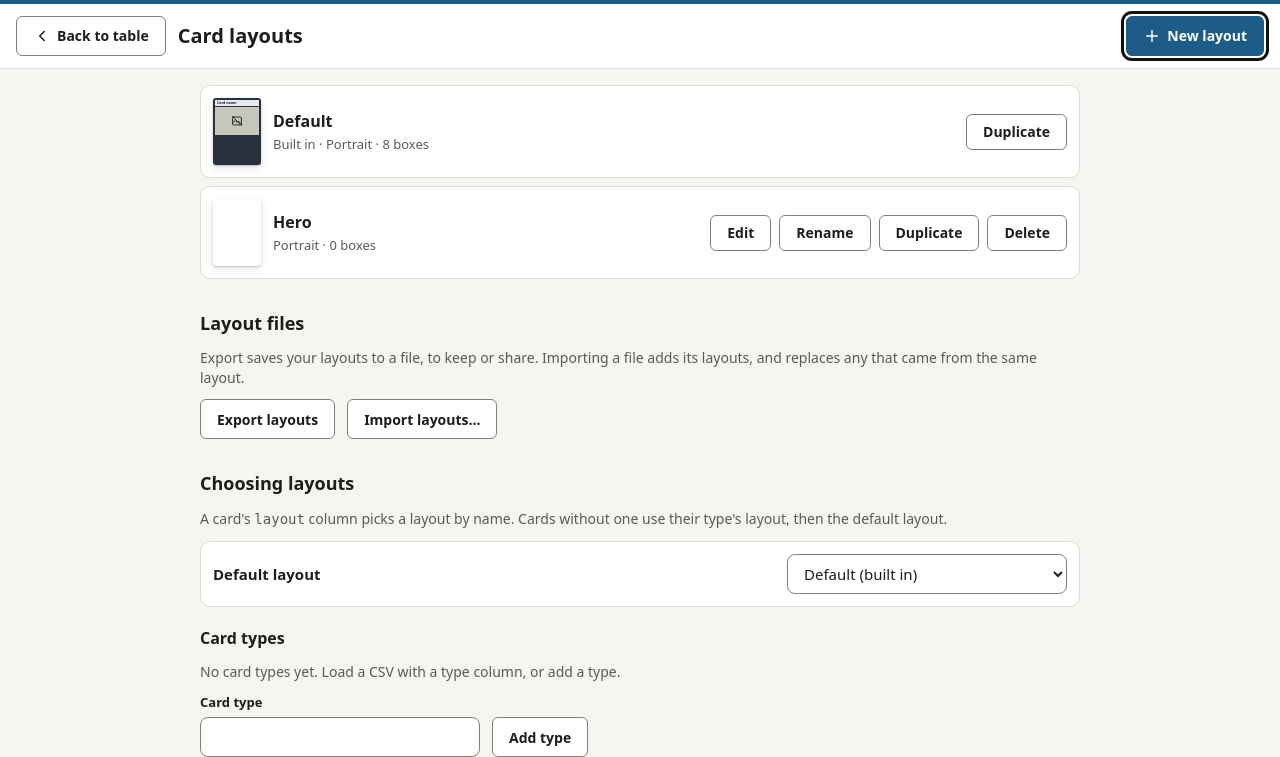
Test case: LY-3 box properties › takes alternative columns, keeps them as an image, and suggests loaded columns
Click the button with aria-label "Edit Hero". click: x=741, y=232
box: [710,214,771,250]
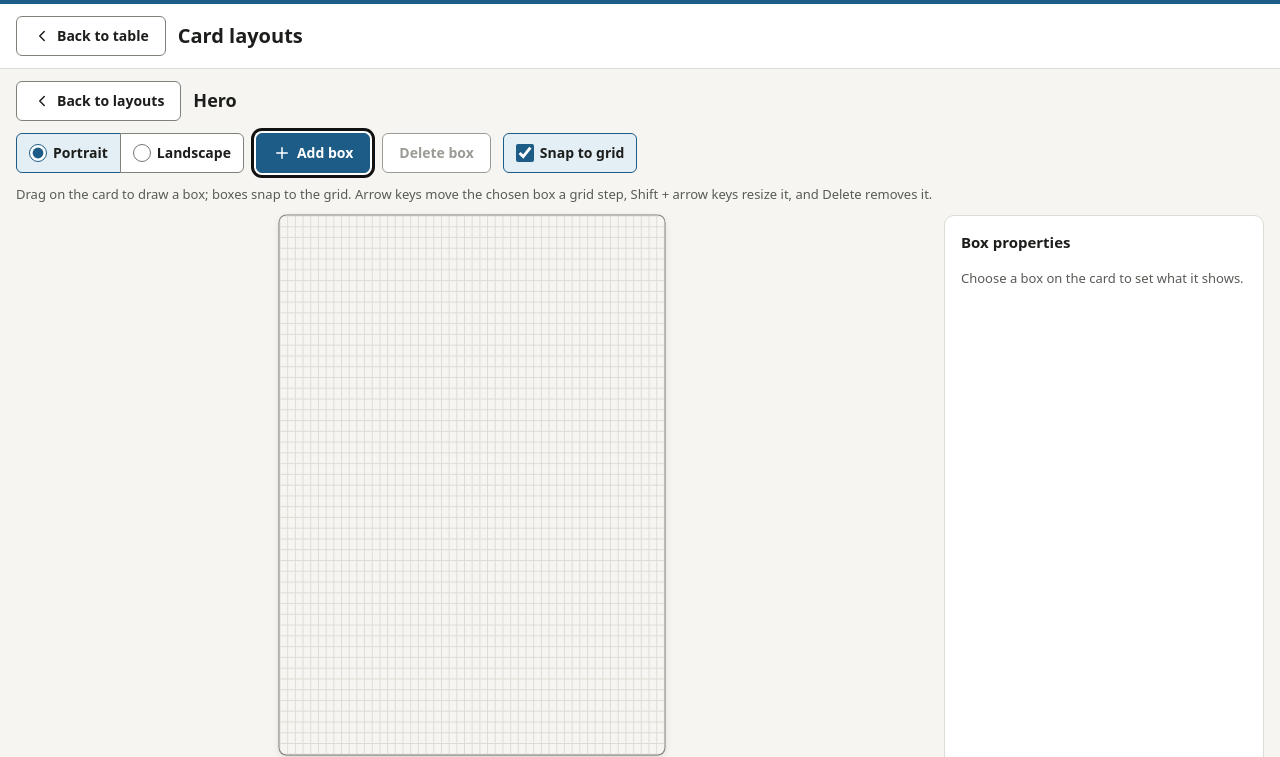
Click the button "Add box". click: x=313, y=153
box: [256,133,370,173]
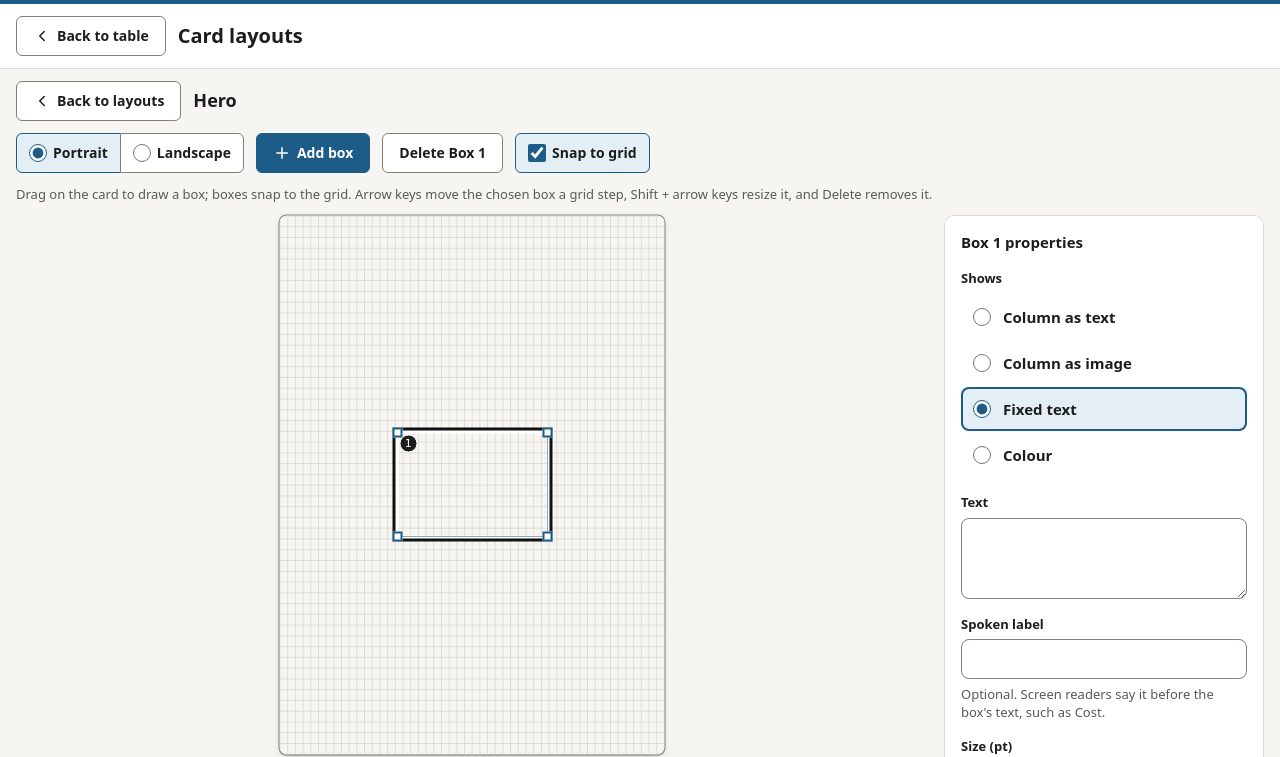
Click the radio button labelled "Column as text". click: x=982, y=317
box: [973,308,991,326]
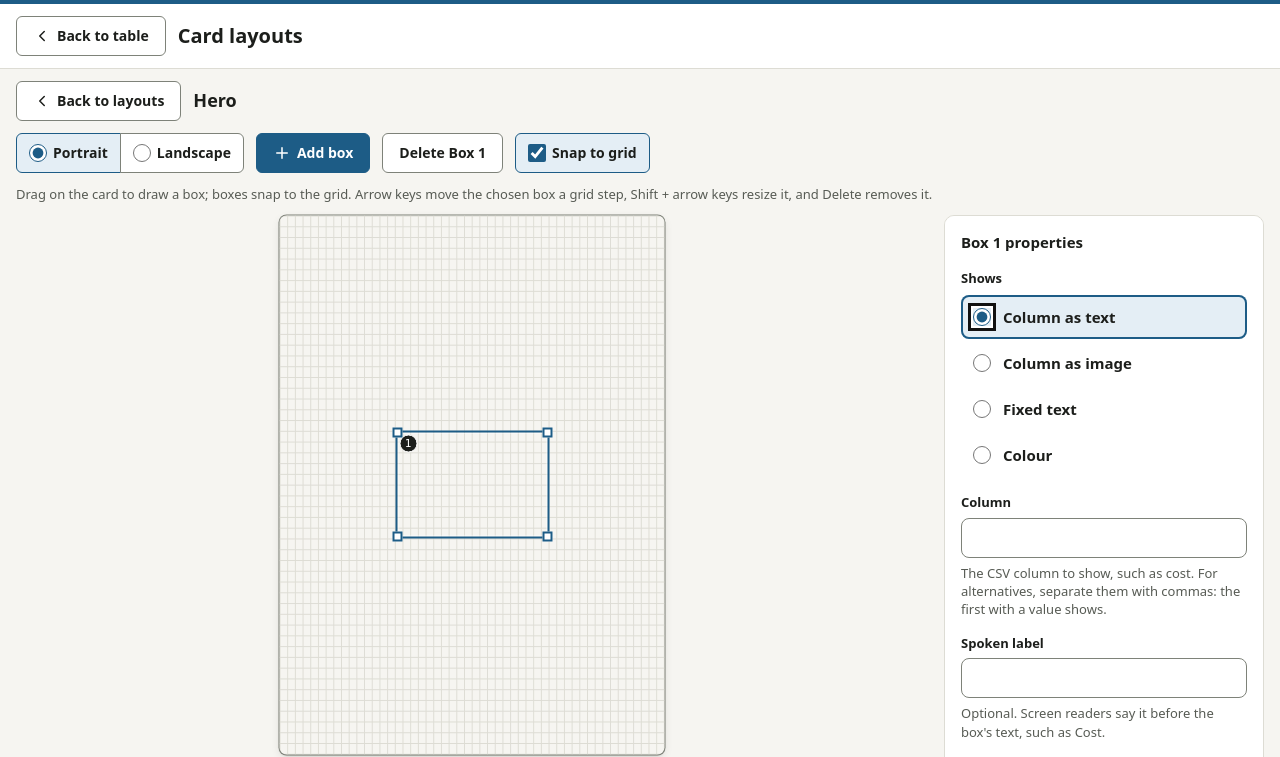
Type "Rules Text, text" into the field labelled "Column". click: x=1104, y=538
box: [961,518,1247,558]
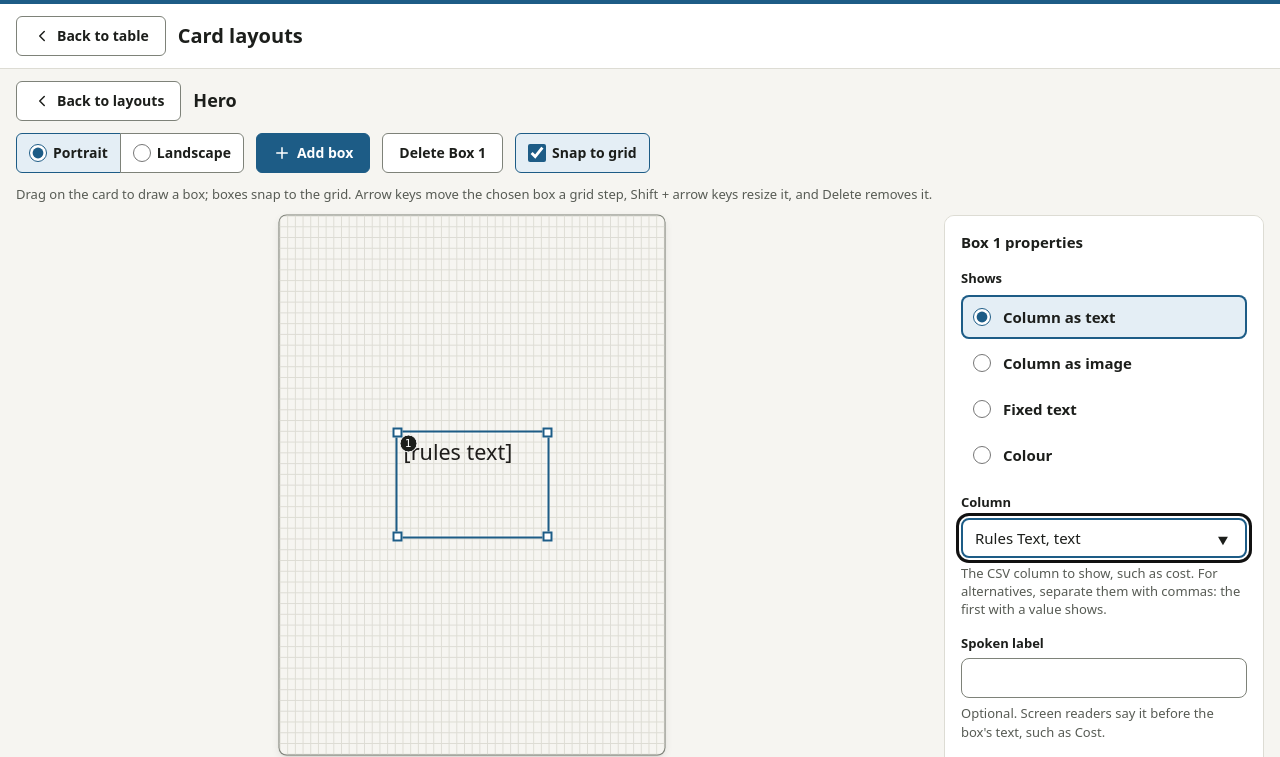
Click the radio button labelled "Column as image". click: x=982, y=363
box: [973,354,991,372]
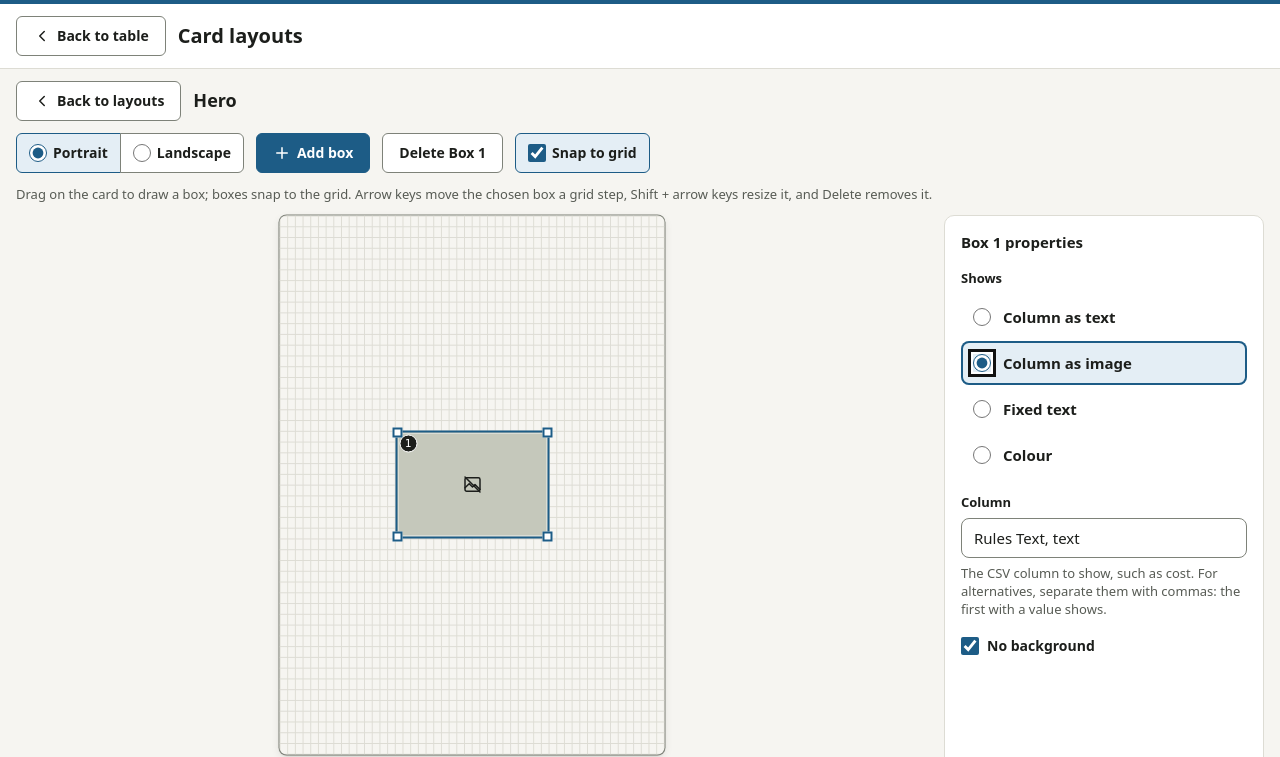
Expected: the button named "Box 1, image from rules text or text, at" is shown, [397,433,547,536]
Expected: the label "Spoken label" is gone
